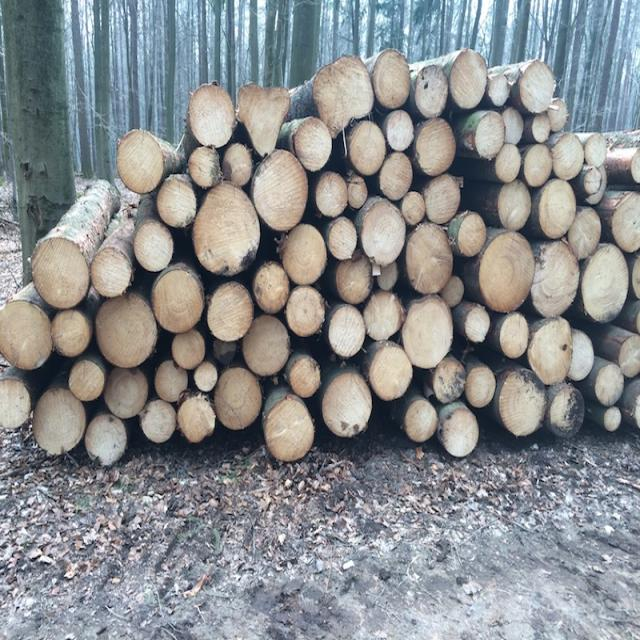wood-log: (192, 182, 260, 277), (312, 55, 374, 138), (251, 150, 309, 230), (96, 290, 156, 367), (479, 232, 535, 312), (31, 238, 89, 308), (530, 238, 580, 317), (581, 243, 629, 323), (400, 295, 452, 368), (239, 83, 290, 155), (0, 300, 52, 370), (321, 368, 371, 437), (34, 388, 85, 455), (151, 270, 204, 333), (498, 368, 546, 437), (265, 393, 314, 460), (406, 223, 452, 293), (188, 83, 235, 148), (361, 198, 405, 267), (242, 315, 290, 377), (528, 318, 572, 385), (118, 130, 164, 193), (215, 365, 261, 428), (282, 223, 326, 285), (208, 282, 254, 340), (368, 342, 412, 400), (449, 48, 488, 110), (371, 48, 410, 108), (538, 178, 577, 238), (104, 367, 149, 418), (86, 412, 128, 465), (416, 118, 455, 175), (134, 220, 174, 272), (438, 407, 479, 457), (156, 177, 196, 228), (349, 120, 386, 175), (336, 250, 374, 303), (285, 287, 325, 337), (91, 247, 132, 295), (364, 292, 405, 340), (328, 305, 365, 358), (519, 60, 556, 113), (252, 262, 290, 313), (50, 310, 90, 357), (295, 118, 331, 170), (566, 207, 601, 260), (178, 393, 215, 442), (424, 173, 460, 223), (611, 192, 640, 253), (550, 387, 584, 438), (498, 182, 532, 232), (415, 67, 448, 118), (379, 152, 412, 202), (139, 398, 176, 442), (551, 133, 584, 180), (0, 378, 31, 428), (315, 172, 348, 218), (69, 360, 105, 402), (434, 355, 465, 403), (405, 398, 438, 442), (154, 360, 188, 402), (474, 112, 505, 158), (594, 362, 625, 407), (568, 329, 594, 382), (326, 217, 358, 260), (221, 143, 252, 187), (171, 328, 205, 368), (290, 355, 320, 398), (189, 148, 221, 188), (465, 365, 495, 407), (385, 110, 414, 152), (458, 212, 486, 255), (524, 145, 552, 187), (495, 143, 521, 183), (618, 333, 640, 378), (464, 307, 490, 343), (585, 166, 608, 205), (501, 107, 524, 145), (399, 192, 425, 225), (440, 275, 464, 308), (546, 98, 569, 132), (212, 338, 238, 367), (195, 360, 218, 392), (489, 73, 510, 107), (585, 133, 606, 167), (376, 262, 398, 292), (348, 177, 368, 208), (582, 167, 601, 195), (532, 114, 550, 143), (602, 407, 621, 432), (631, 148, 640, 183)
